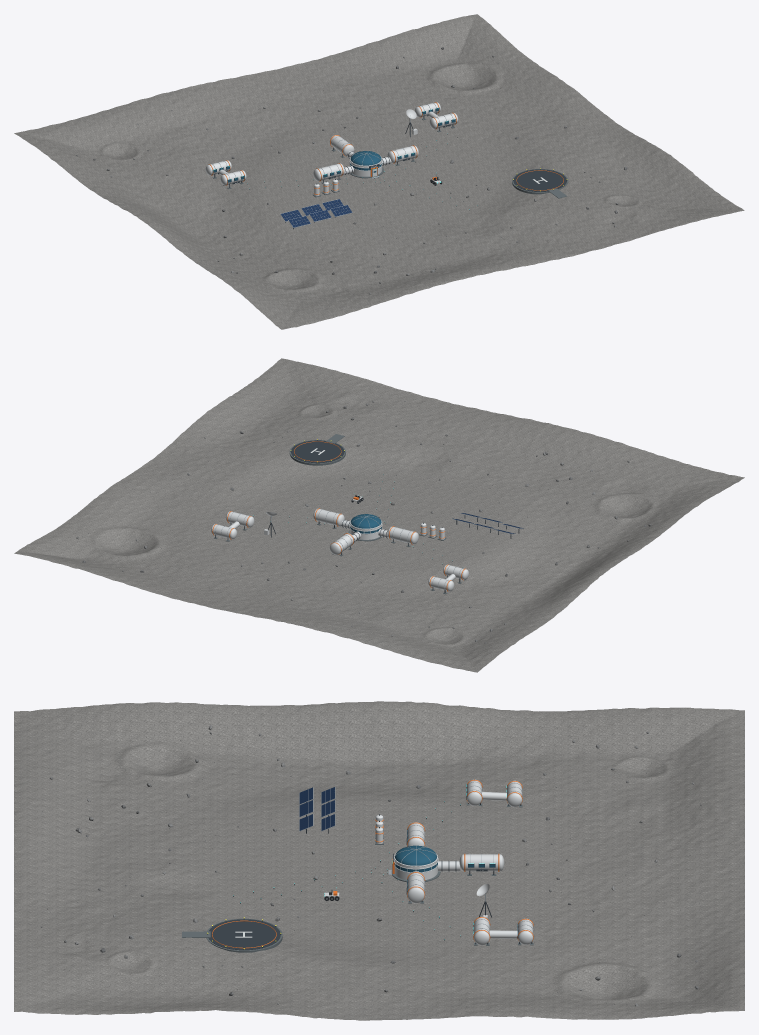
File: Moonwalk_Colony.glb
3 renders of one model, top to bottom at view 1: azimuth 30°, elevation 25°; view 2: azimuth 150°, elevation 25°; view 3: azimuth 270°, elevation 25°, orthographic. The views are drawn at different scales.
Visible parts, largest first — view 1: Terrain_3_0-col, Terrain_1_0-col, Terrain_2_0-col, Terrain_0_0-col, Terrain_3_1-col, Terrain_2_3-col, Terrain_3_3-col, Terrain_3_2-col, Terrain_0_1-col, Terrain_1_2-col, Terrain_2_2-col, Terrain_0_3-col (+9 smaller); view 2: Terrain_1_3-col, Terrain_2_3-col, Terrain_3_3-col, Terrain_3_1-col, Terrain_3_2-col, Terrain_0_3-col, Terrain_1_2-col, Terrain_2_2-col, Terrain_0_2-col, Terrain_2_0-col, Terrain_3_0-col, Terrain_1_1-col (+8 smaller); view 3: Terrain_0_2-col, Terrain_0_1-col, Terrain_0_3-col, Terrain_0_0-col, Terrain_2_0-col, Terrain_1_0-col, Terrain_3_3-col, Terrain_1_3-col, Terrain_2_3-col, Terrain_1_2-col, Terrain_3_0-col, Terrain_3_1-col (+11 smaller).
Boxes of the visible parts, left/top/right/bottom form: Terrain_3_0-col: left=362, top=14, right=543, bottom=102; Terrain_1_0-col: left=130, top=75, right=311, bottom=161; Terrain_2_0-col: left=246, top=46, right=427, bottom=131; Terrain_0_0-col: left=14, top=103, right=196, bottom=182; Terrain_3_1-col: left=429, top=69, right=610, bottom=151; Terrain_2_3-col: left=447, top=195, right=628, bottom=268; Terrain_3_3-col: left=563, top=161, right=744, bottom=241; Terrain_3_2-col: left=495, top=119, right=677, bottom=192; Terrain_0_1-col: left=81, top=162, right=263, bottom=234; Terrain_1_2-col: left=264, top=180, right=445, bottom=259; Terrain_2_2-col: left=380, top=152, right=552, bottom=227; Terrain_0_3-col: left=215, top=259, right=396, bottom=329; Terrain_1_3-col: left=446, top=416, right=628, bottom=504; Terrain_2_3-col: left=336, top=389, right=512, bottom=473; Terrain_3_3-col: left=215, top=358, right=396, bottom=437; Terrain_3_1-col: left=81, top=462, right=263, bottom=543; Terrain_3_2-col: left=148, top=406, right=329, bottom=494; Terrain_0_3-col: left=562, top=446, right=744, bottom=523; Terrain_1_2-col: left=382, top=474, right=561, bottom=553; Terrain_2_2-col: left=264, top=440, right=445, bottom=521; Terrain_0_2-col: left=495, top=505, right=677, bottom=578; Terrain_2_0-col: left=130, top=544, right=312, bottom=614; Terrain_3_0-col: left=14, top=510, right=196, bottom=585; Terrain_1_1-col: left=313, top=525, right=494, bottom=603; Terrain_0_2-col: left=196, top=701, right=379, bottom=799; Terrain_0_1-col: left=379, top=701, right=562, bottom=799; Terrain_0_3-col: left=14, top=702, right=196, bottom=798; Terrain_0_0-col: left=562, top=707, right=744, bottom=798; Terrain_2_0-col: left=562, top=863, right=744, bottom=949; Terrain_1_0-col: left=562, top=784, right=744, bottom=873; Terrain_3_3-col: left=14, top=937, right=196, bottom=1014; Terrain_1_3-col: left=14, top=783, right=196, bottom=870; Terrain_2_3-col: left=14, top=859, right=196, bottom=938; Terrain_1_2-col: left=196, top=796, right=379, bottom=872; Terrain_3_0-col: left=562, top=939, right=744, bottom=1019; Terrain_3_1-col: left=379, top=948, right=562, bottom=1020.
Bounding box in the file's own units: 200 × 14.34 × 200.
15 materials, 1 textured.
